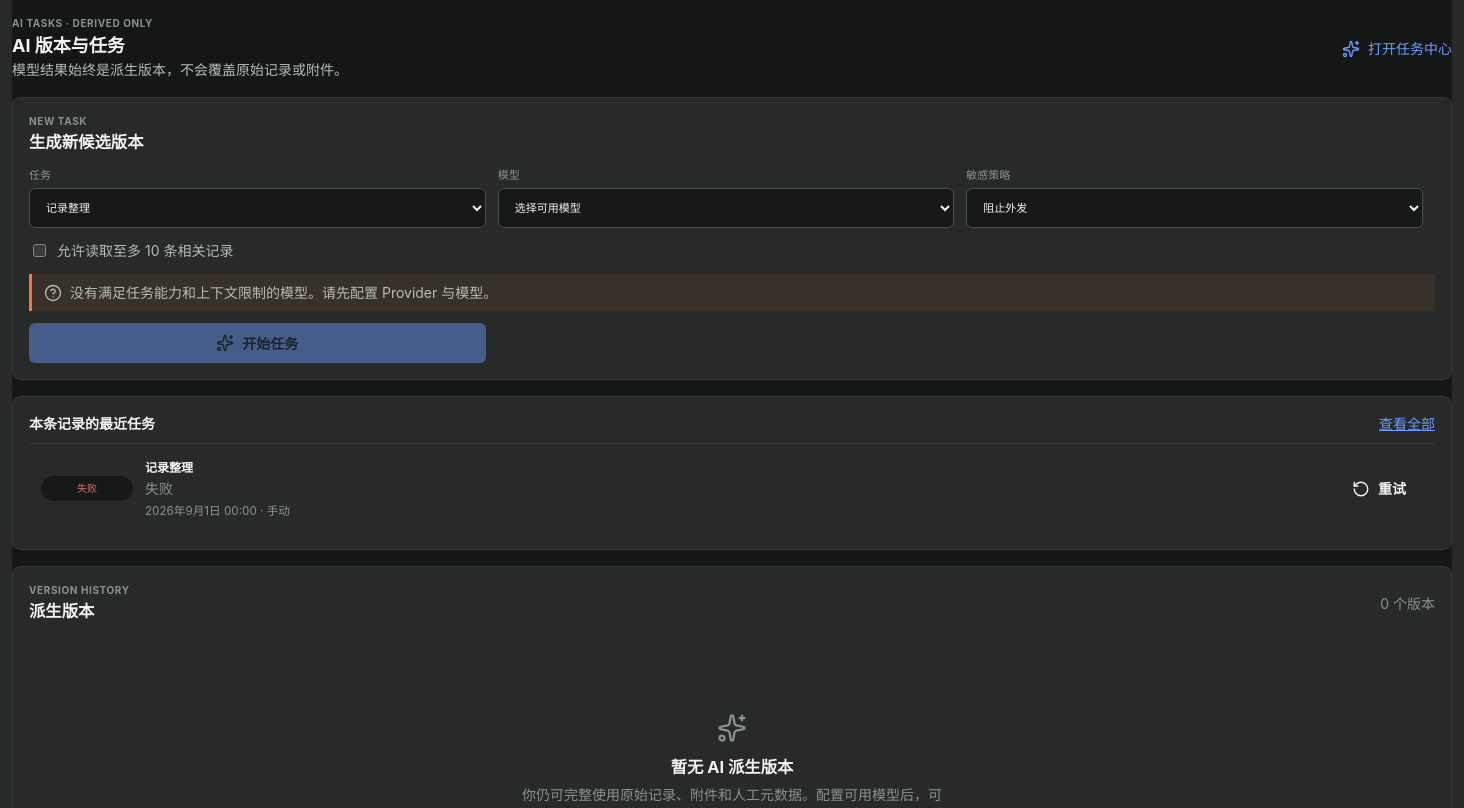
Test: ItemAIView state recovery › keeps the original record usable after an AI failure and retries the existing task
This screenshot has width=1464, height=808.
Step 1. Click the button "重试" → click(1379, 489), box [1335,469,1423,509]
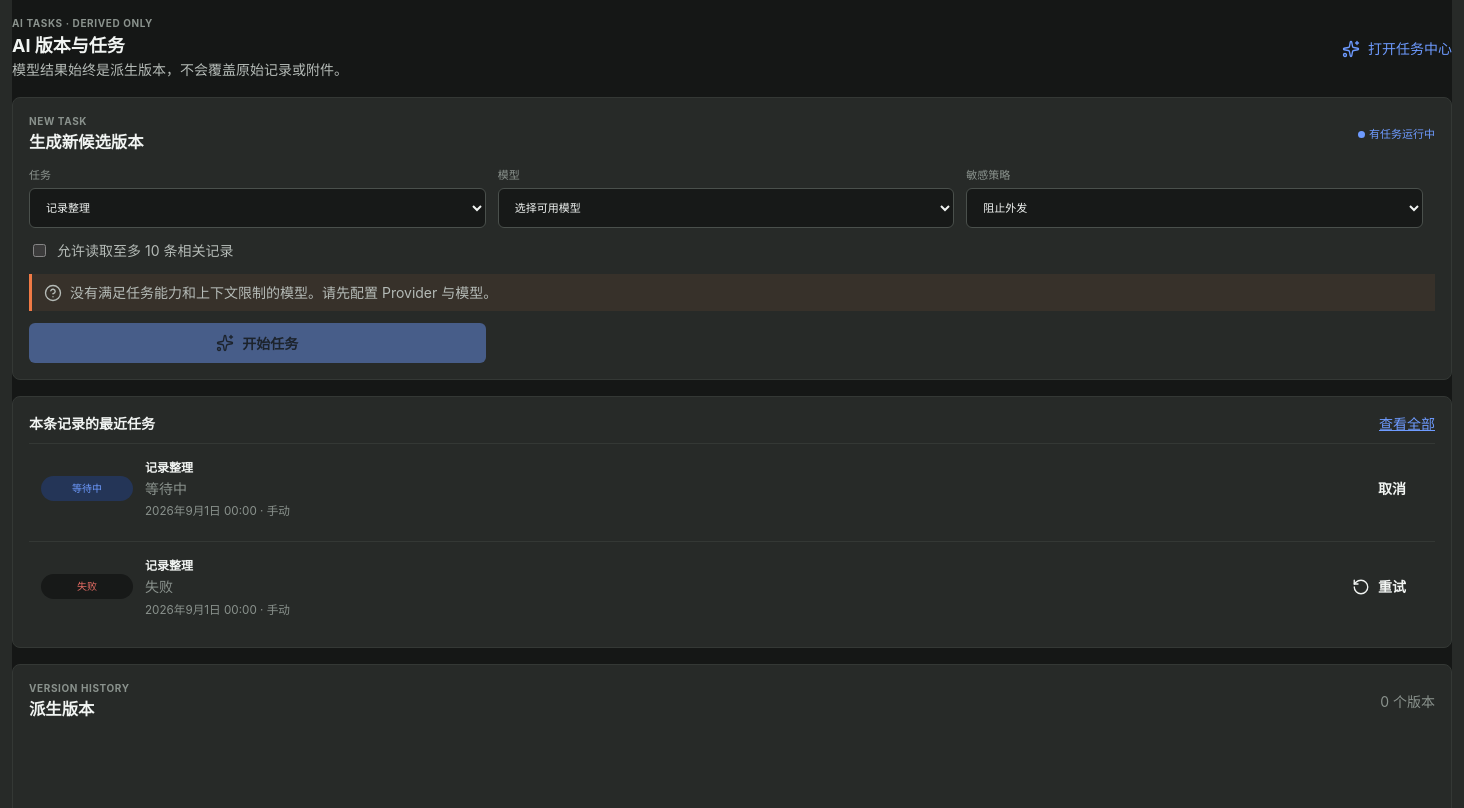
Now the text "等待中" is shown, box [41,476,133,501]
